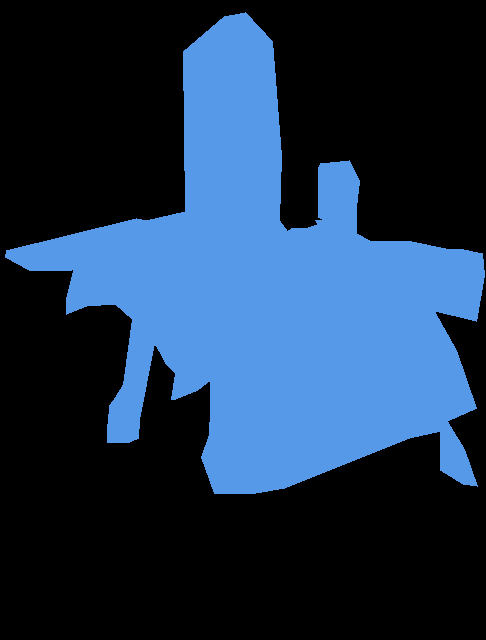Airplane: (5, 12, 485, 494)
